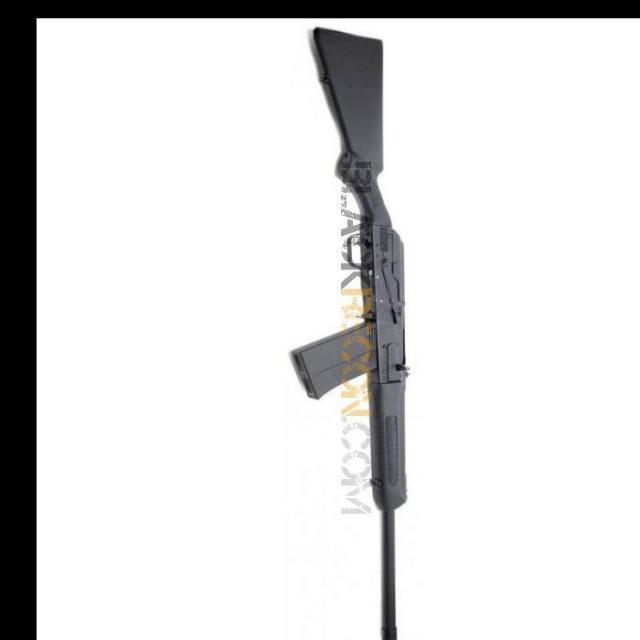weapon: (286, 26, 411, 640)
